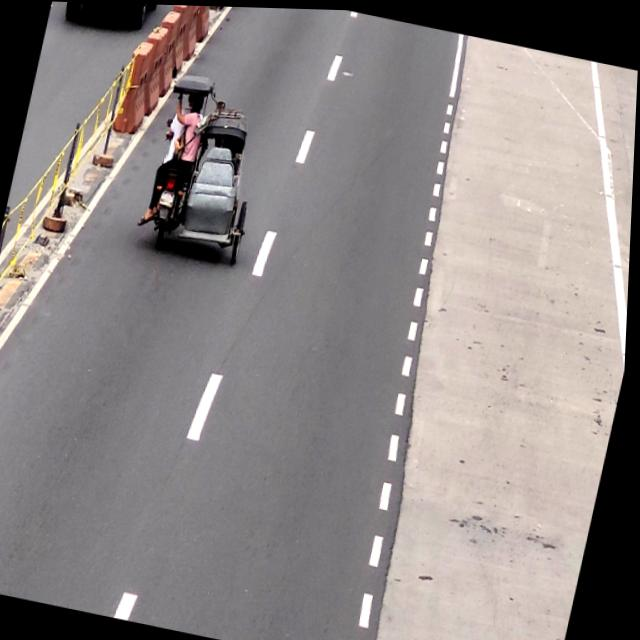Tricycle: (135, 68, 278, 270)
